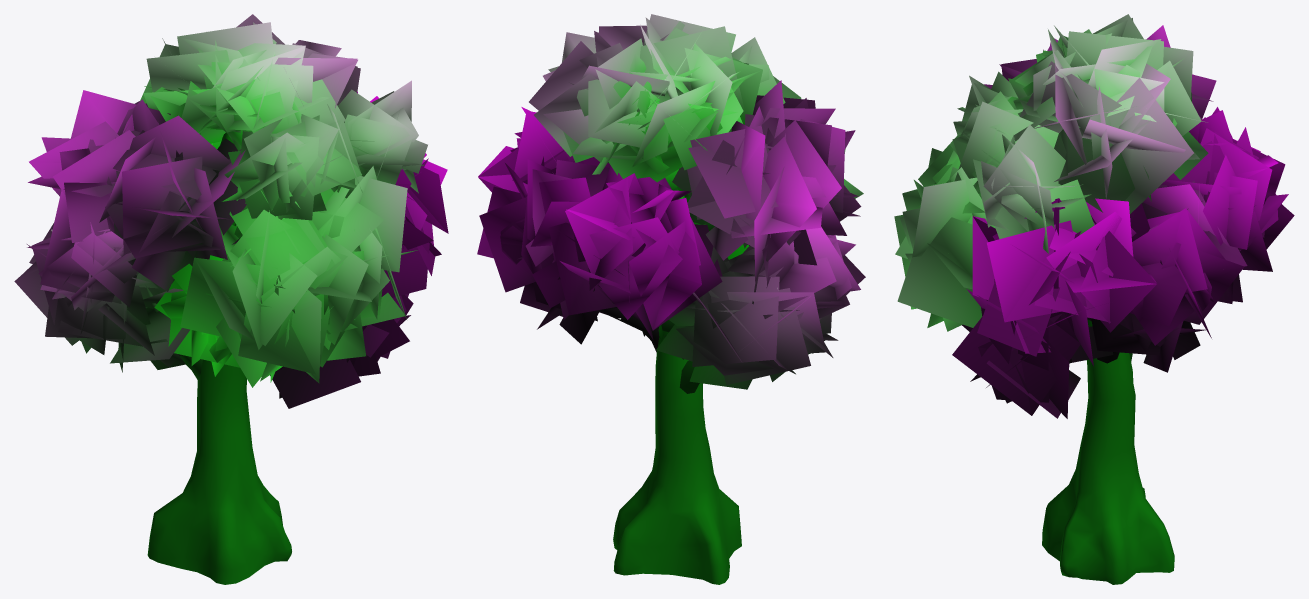
The model's file is G_FruitTree_001_S1.fbx.
3 views of the same model, side by side, from view 1: azimuth 30°, elevation 25°; view 2: azimuth 150°, elevation 25°; view 3: azimuth 270°, elevation 25° (orthographic).
Visible parts, largest first — view 1: G_FruitTree_001_S1_P01_LOD0; view 2: G_FruitTree_001_S1_P01_LOD0; view 3: G_FruitTree_001_S1_P01_LOD0.
Part boxes in pixels (x1=…): G_FruitTree_001_S1_P01_LOD0: x1=14, y1=14, x2=448, y2=584; G_FruitTree_001_S1_P01_LOD0: x1=477, y1=14, x2=865, y2=584; G_FruitTree_001_S1_P01_LOD0: x1=894, y1=14, x2=1294, y2=584.
Size of what is drawn, in the model's own units: 370 by 489 by 337.
